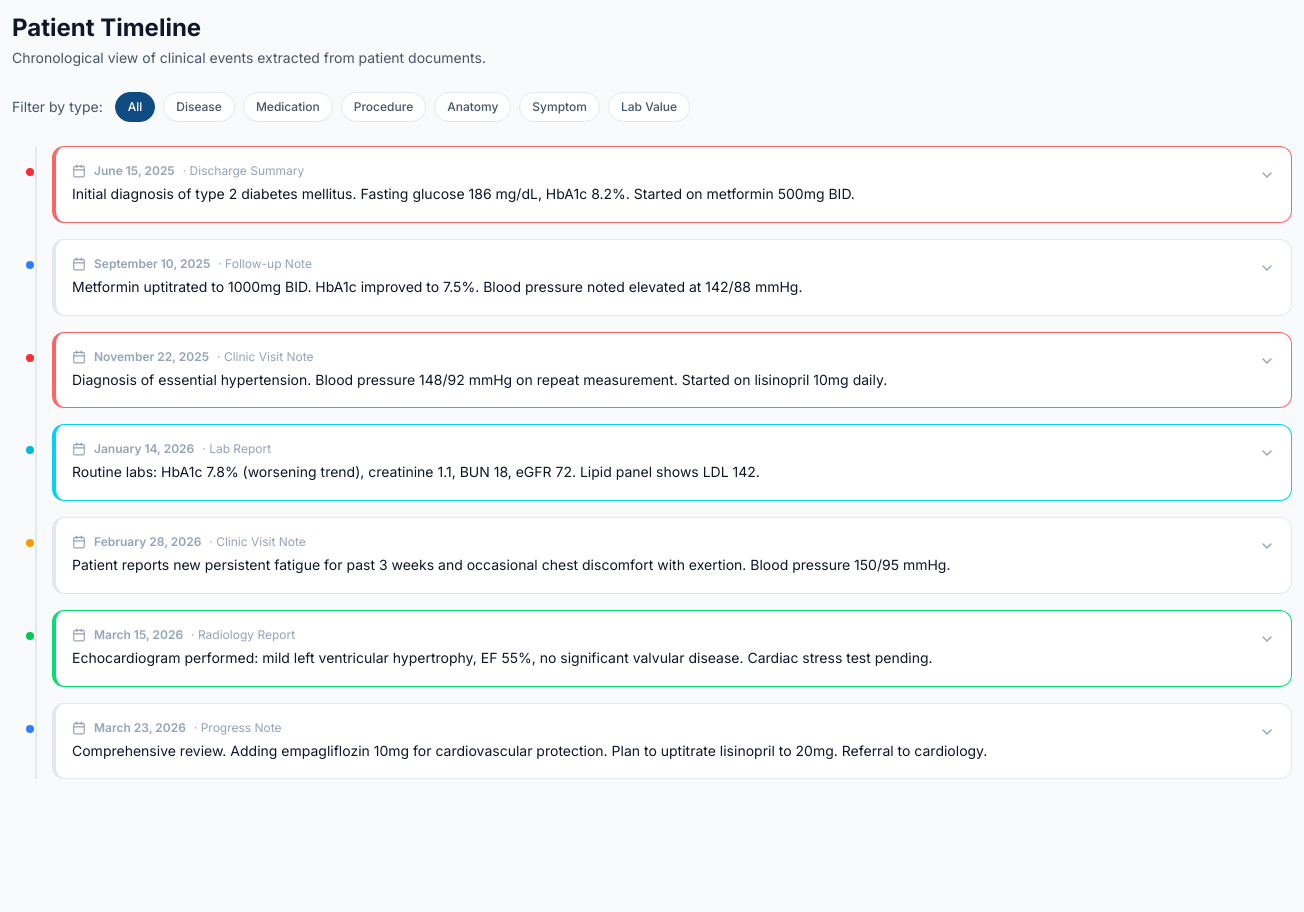
Scenario: Timeline › filters to disease events only
Click the button "Disease" at (199, 107), box [163, 92, 235, 122]
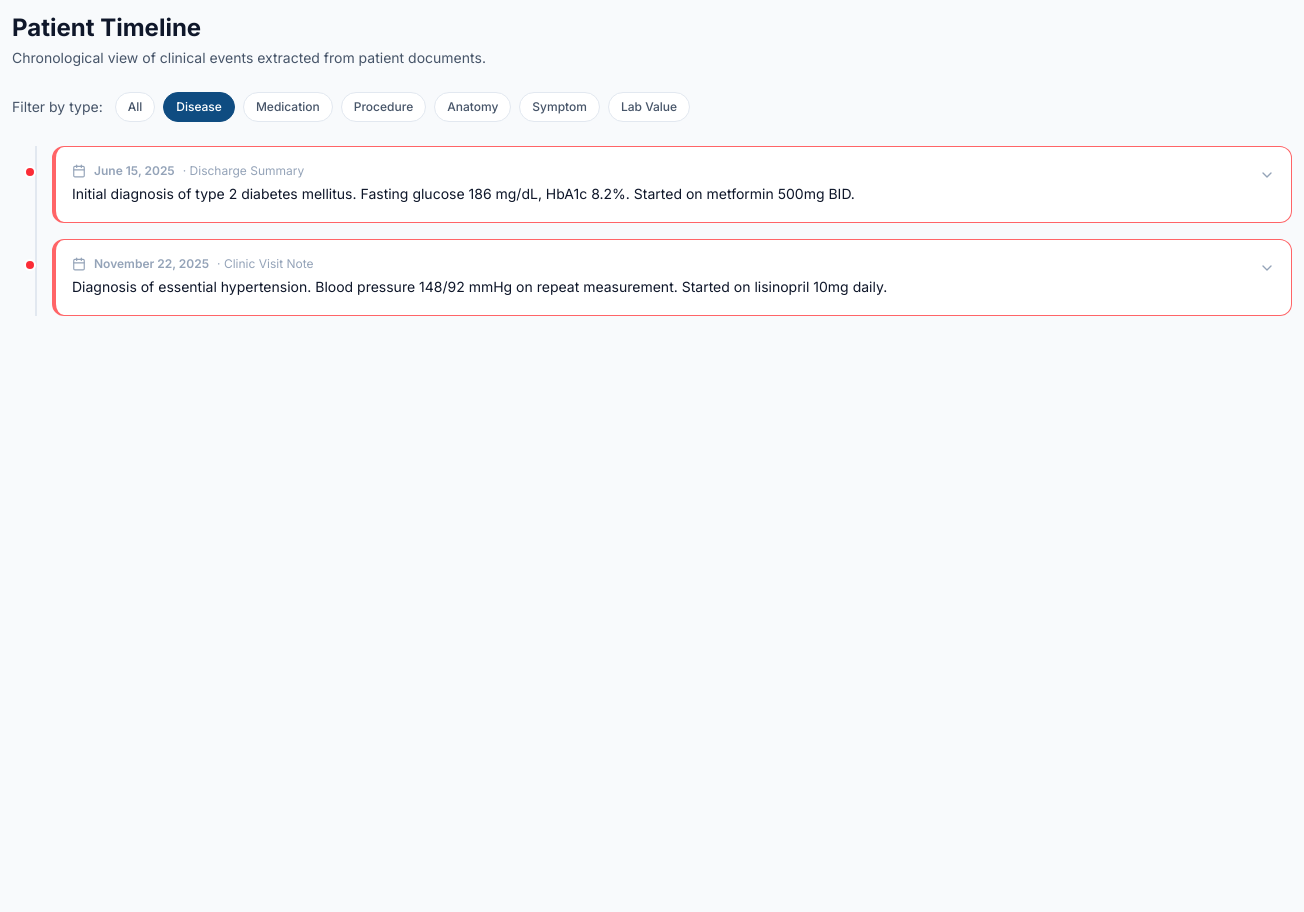
Expected: the text "Initial diagnosis of type 2 diabetes" is shown, [72, 185, 855, 202]
Expected: the button "Echocardiogram performed" is gone
